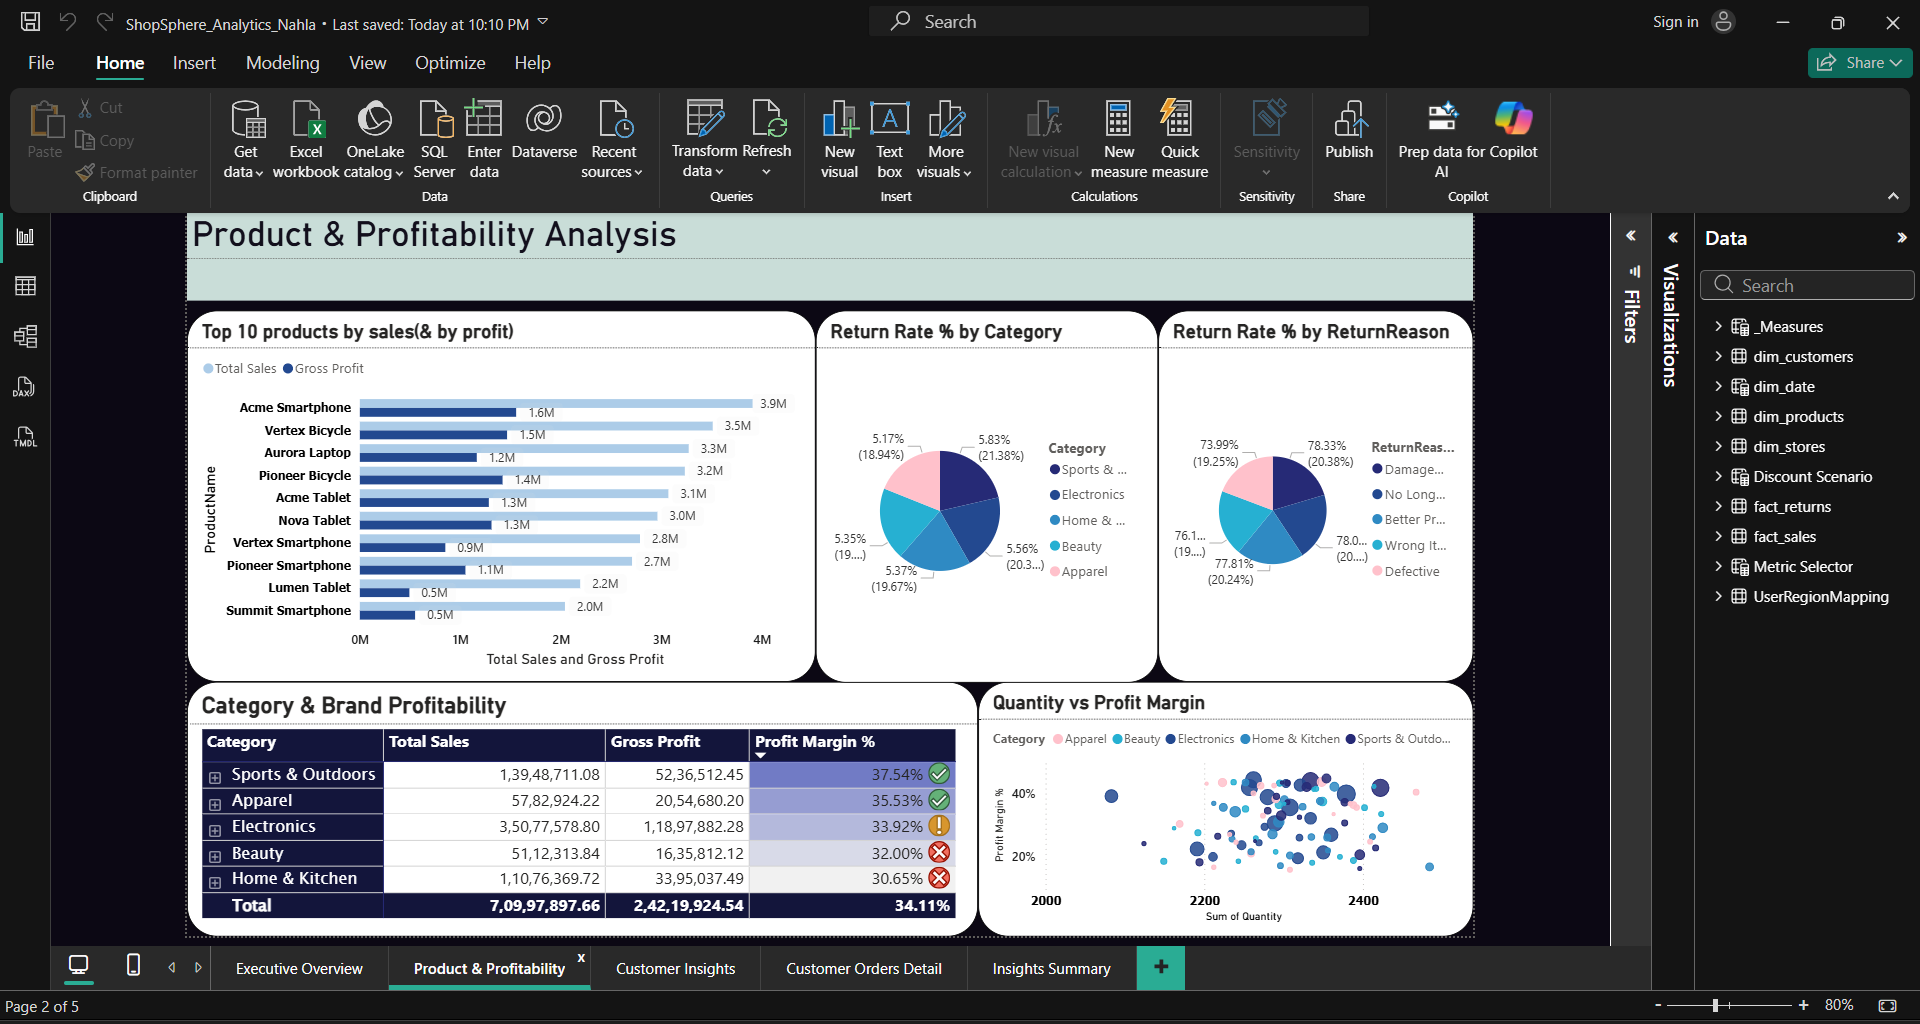

The dashboard page shown, as its layout file describes it:
{"tool":"powerbi","page":{"name":"Product & Profitability","canvas":[1280,720],"ordinal":1},"visuals":[{"type":"textbox","title":"Product & Profitability Analysis","box":[0,0,1280,87.1],"z":0},{"type":"clusteredBarChart","title":"Top 10 products by sales(& by profit)","fields":{"Category":["dim_products.ProductName"],"Y":["_Measures.Total Sales","_Measures.Gross Profit"]},"box":[0,97,625.7,369.5],"z":1000},{"type":"pivotTable","title":"Category & Brand Profitability","fields":{"Rows":["dim_products.Category","dim_products.Brand"],"Values":["_Measures.Total Sales","_Measures.Gross Profit","_Measures.Profit Margin %"]},"box":[0,466.5,787.4,253.8],"z":2000},{"type":"scatterChart","title":"Quantity vs Profit Margin","fields":{"Y":["_Measures.Profit Margin %"],"Series":["dim_products.Category"],"Size":["_Measures.Total Sales"],"X":["Sum(fact_sales.Quantity)"],"Category":["dim_products.ProductName"]},"box":[787.4,466.5,492.6,253.8],"z":3000},{"type":"pieChart","fields":{"Category":["fact_returns.ReturnReason"],"Y":["_Measures.Return Rate %"]},"box":[966.6,97,313.5,369.5],"z":4000},{"type":"pieChart","fields":{"Y":["_Measures.Return Rate %"],"Category":["dim_products.Category"]},"box":[625.7,97,340.8,370.7],"z":5000}]}

Visuals, with their boxes on the page's 1280x720 design canvas (x1, y1, x2, y2). These are canvas units, not pixel positions in the 1920x1024 screenshot, which may show the page scaled, cropped or inside an application window:
"Product & Profitability Analysis" textbox: <box>0,0,1280,87</box>
"Top 10 products by sales(& by profit)" clusteredBarChart: <box>0,97,626,466</box>
"Category & Brand Profitability" pivotTable: <box>0,466,787,720</box>
"Quantity vs Profit Margin" scatterChart: <box>787,466,1280,720</box>
pieChart - fact_returns.ReturnReason x _Measures.Return Rate %: <box>967,97,1280,466</box>
pieChart - _Measures.Return Rate % x dim_products.Category: <box>626,97,966,468</box>
